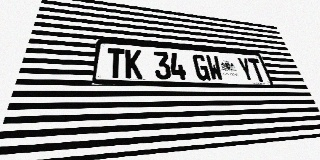3: (153, 51, 172, 80)
4: (168, 52, 187, 80)
G: (192, 54, 211, 81)
K: (125, 49, 142, 79)
T: (106, 48, 125, 78), (247, 58, 267, 82)
W: (205, 55, 224, 81)
Y: (236, 57, 256, 82)
